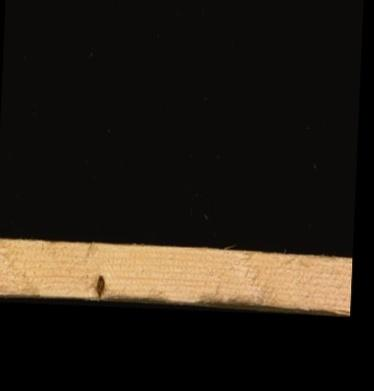dry_knot: (95, 271, 105, 297)
